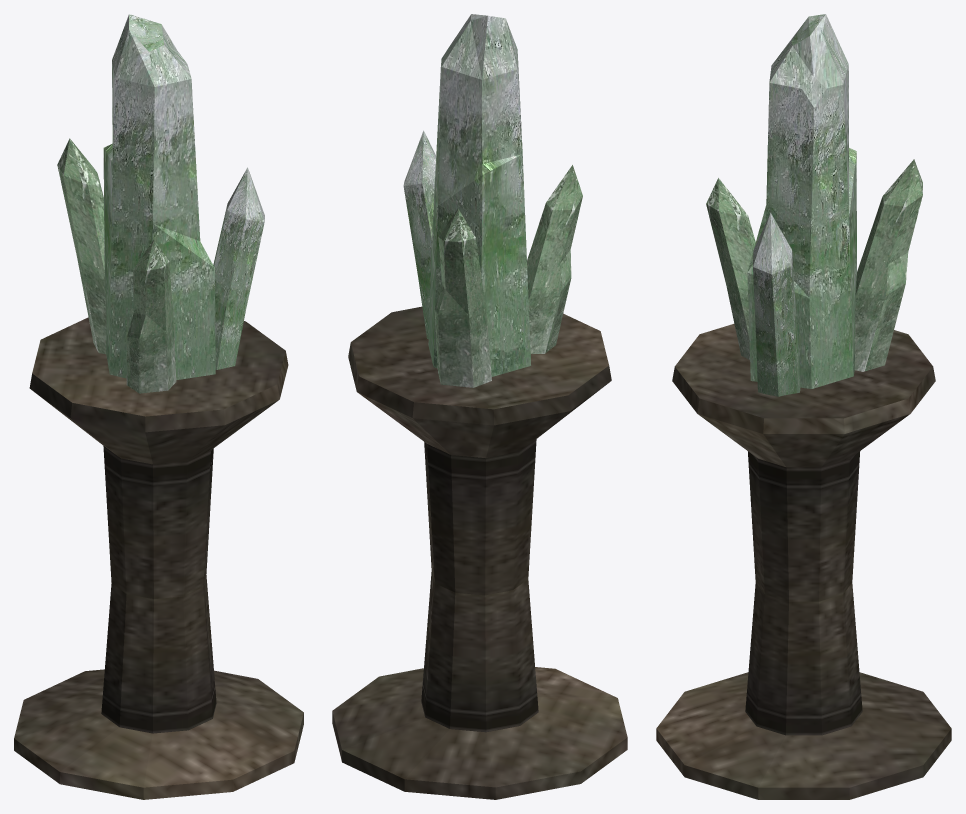
File: KM_VOB_CRYSTALCANDLE.glb
The picture shows the model from 3 angles, left to right: view 1: azimuth 30°, elevation 25°; view 2: azimuth 150°, elevation 25°; view 3: azimuth 270°, elevation 25°; orthographic projection. The views are drawn at different scales.
Visible parts, largest first — view 1: KM_VOB_CRYSTALCANDLE; view 2: KM_VOB_CRYSTALCANDLE; view 3: KM_VOB_CRYSTALCANDLE.
Part boxes in pixels (x1=…): KM_VOB_CRYSTALCANDLE: x1=14, y1=14, x2=303, y2=799; KM_VOB_CRYSTALCANDLE: x1=332, y1=14, x2=627, y2=799; KM_VOB_CRYSTALCANDLE: x1=656, y1=14, x2=951, y2=799.
Size of the model in its own units: 0.2789 by 0.7864 by 0.2933.
3 materials, 3 textured.
